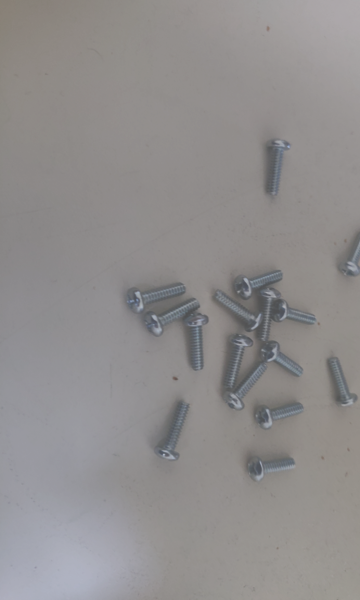shortscrew: (143, 298, 200, 337), (154, 402, 190, 462), (223, 362, 267, 411), (214, 290, 264, 333), (127, 283, 187, 314), (224, 334, 254, 389), (233, 270, 284, 301), (261, 342, 304, 378), (329, 358, 360, 407), (267, 139, 292, 197), (257, 286, 282, 343), (255, 402, 304, 430), (185, 314, 209, 371), (248, 455, 296, 483), (272, 298, 319, 325), (339, 229, 360, 278)
